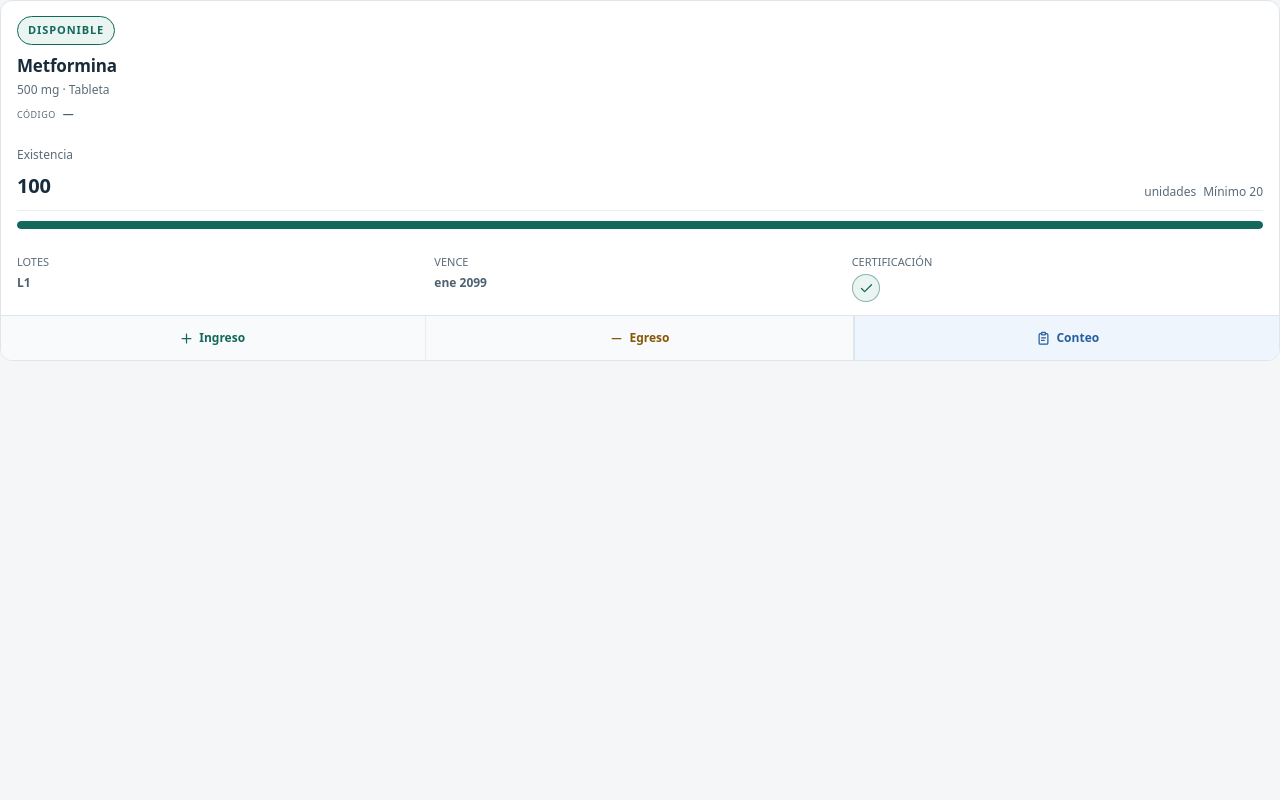
Test case: MedicineCard › muestra el check y abre los datos de la certificación
Step 1. Click the button named "Ver certificación de Metformina" → coordinates (866, 288), box [852, 274, 880, 302]
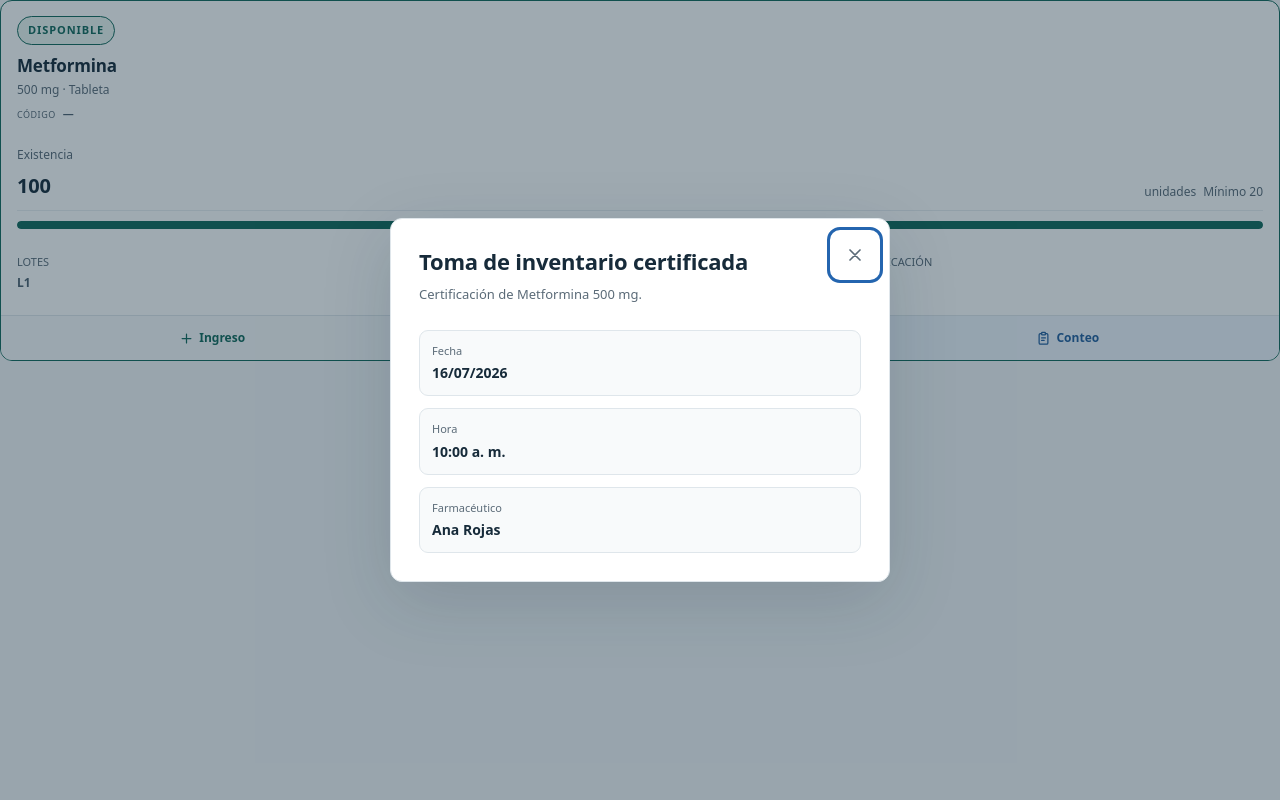
Check: the dialog is shown, box [390, 218, 890, 582]
Check: the text "Ana Rojas" is shown, box [432, 520, 500, 539]
Check: the text "16/07/2026" is shown, box [432, 363, 508, 382]
